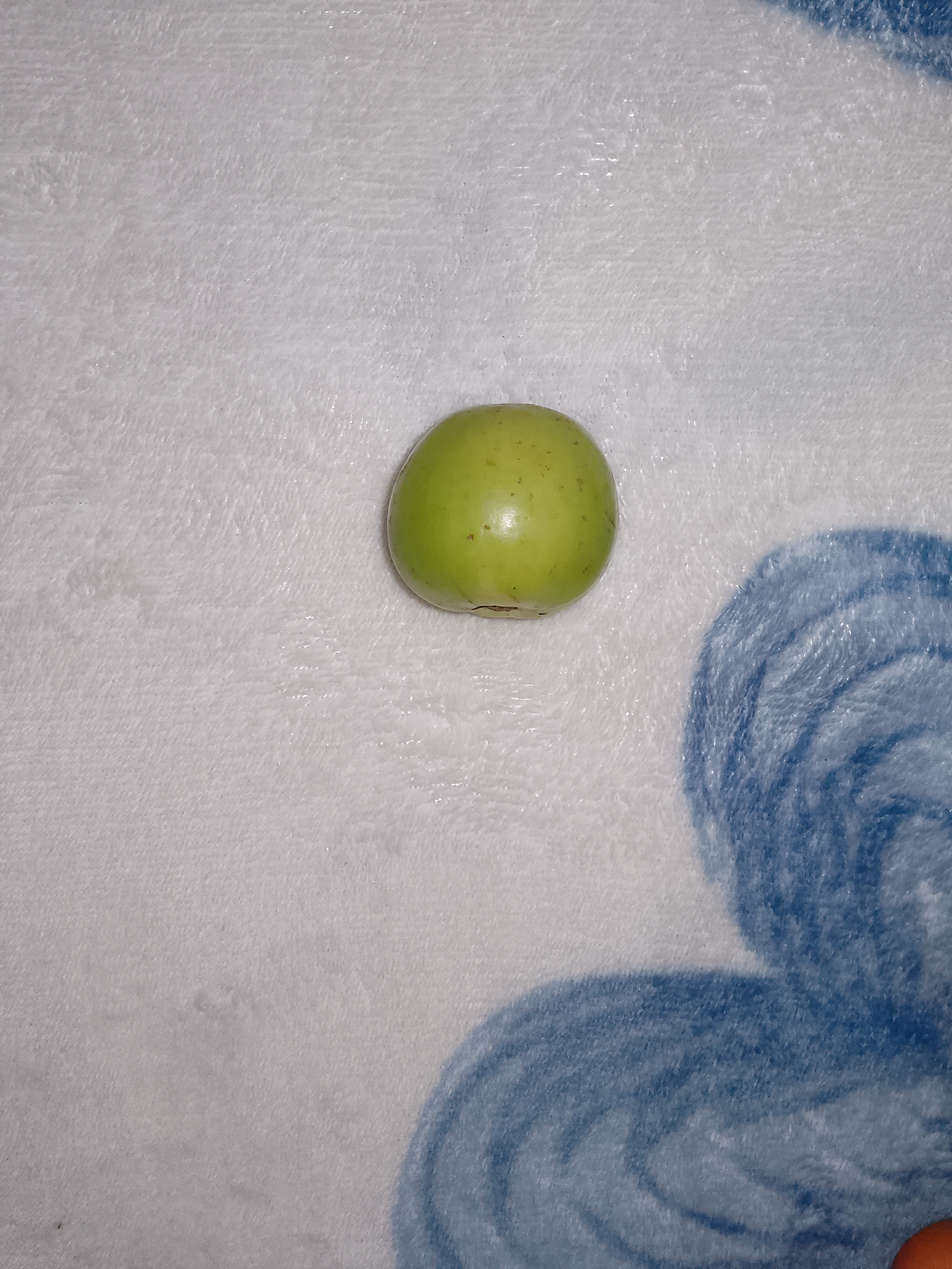Unripe: (306, 381, 670, 646)
